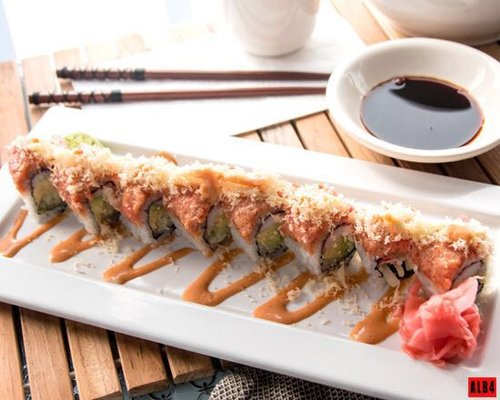pizza: (224, 0, 322, 58)
